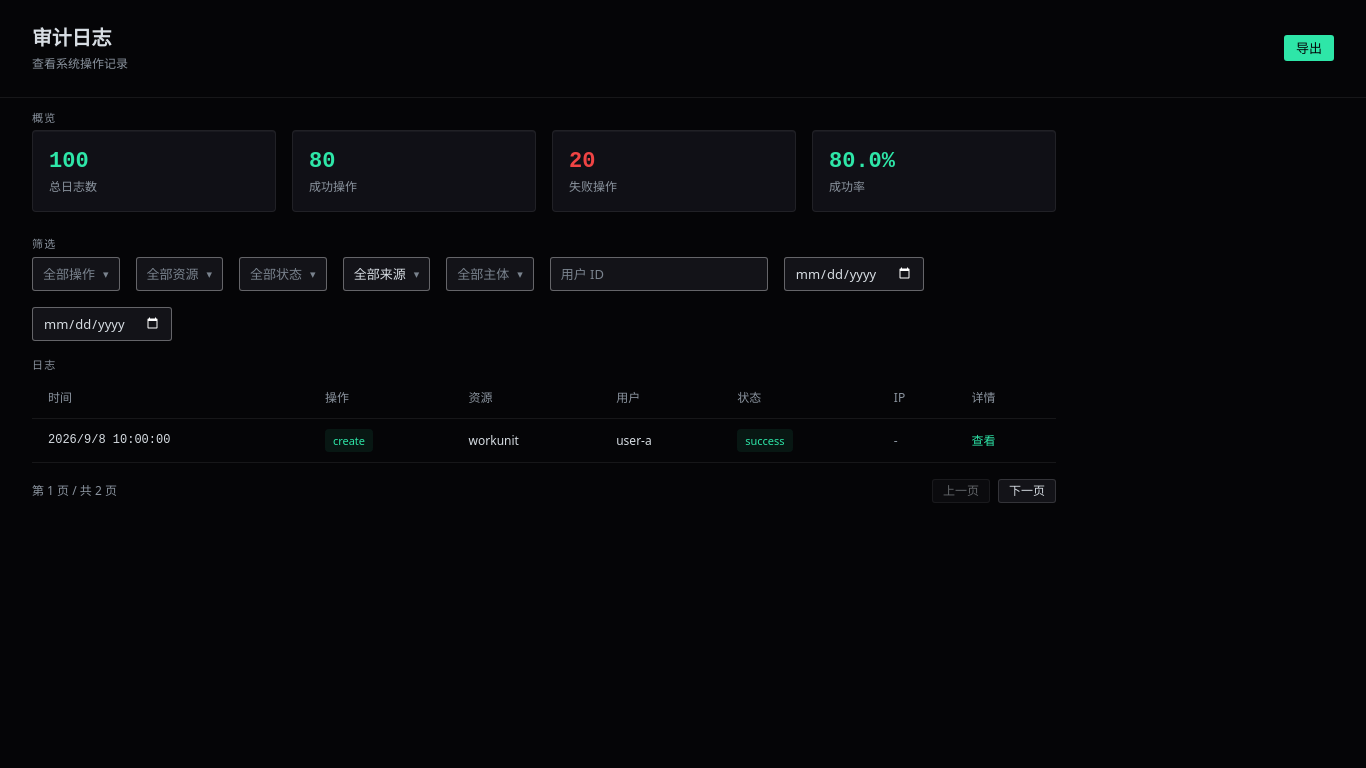
it: AuditLogsPage（E7 审计日志页改造） › 行点击行内展开详情（非弹窗），再点击收起
Click the text "user-a" at point(544, 440), box [32,419,1056,462]
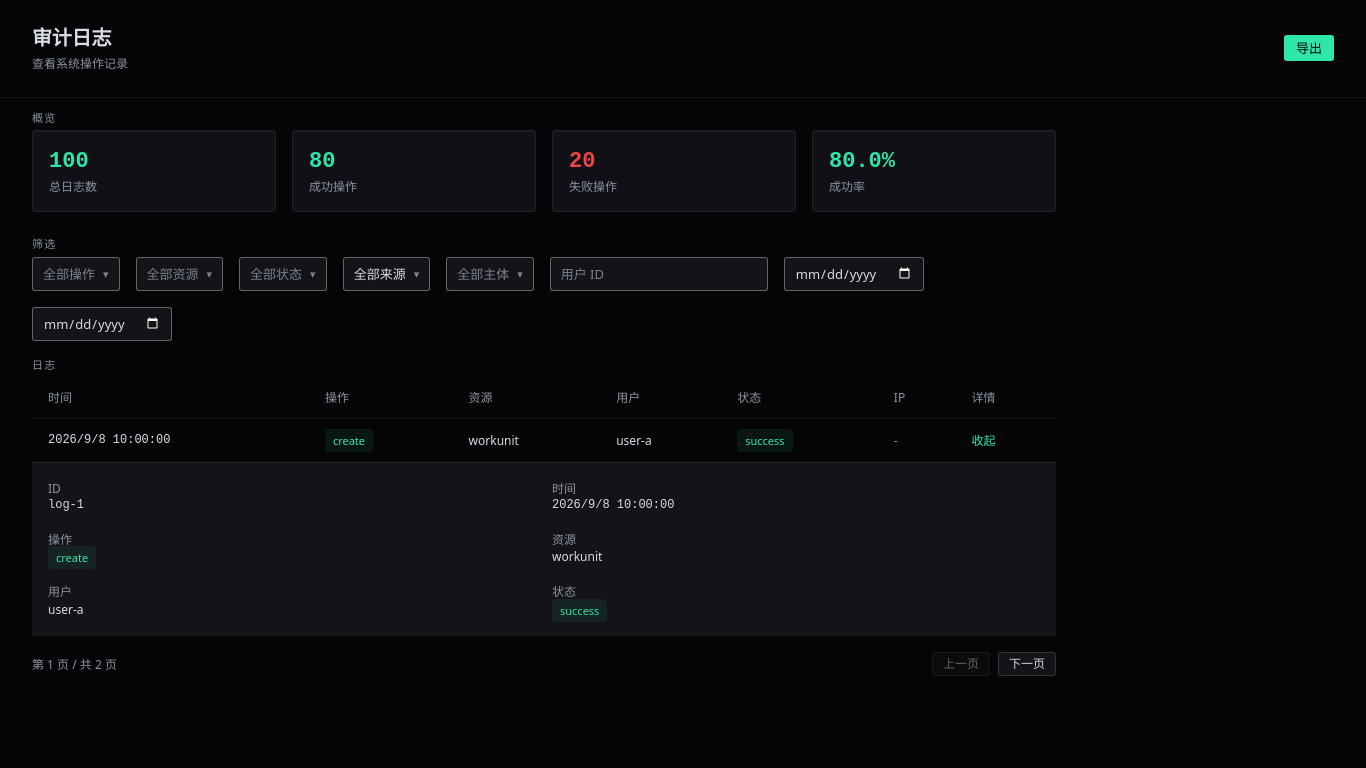
Check: the text "user-a" is expanded
Check: the text "ID" is shown, box [48,480,61,497]
Check: the text "log-1" is shown, box [48,498,84,512]
Click the text "user-a" at point(544, 440), box [32,419,1056,462]
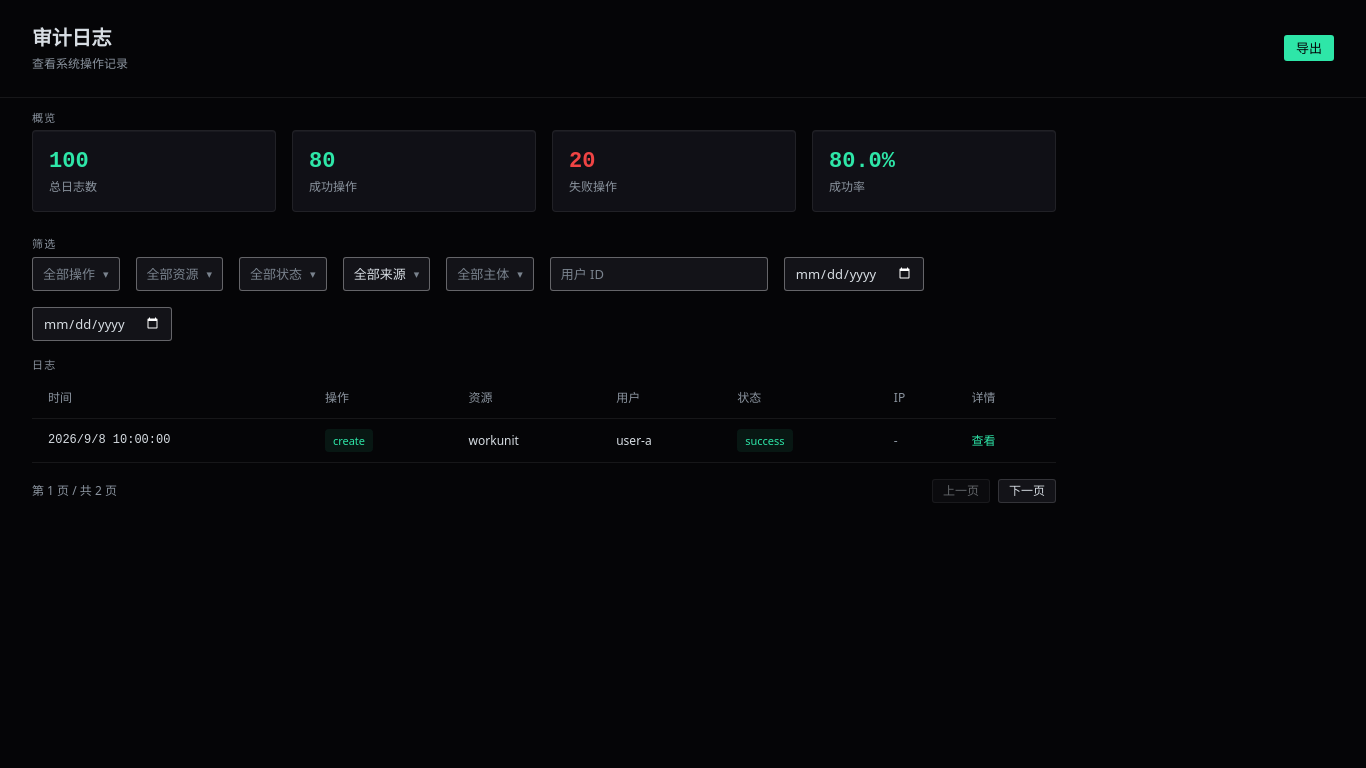
Check: the text "user-a" is collapsed, box [32,419,1056,462]
